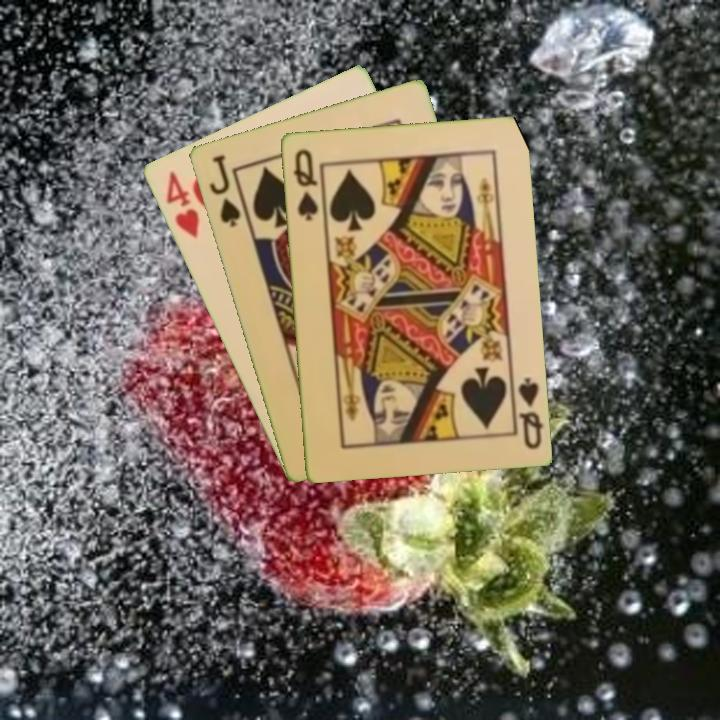4h: (162, 167, 202, 241)
Js: (205, 151, 243, 230)
Qs: (514, 373, 546, 452), (289, 145, 321, 223)
